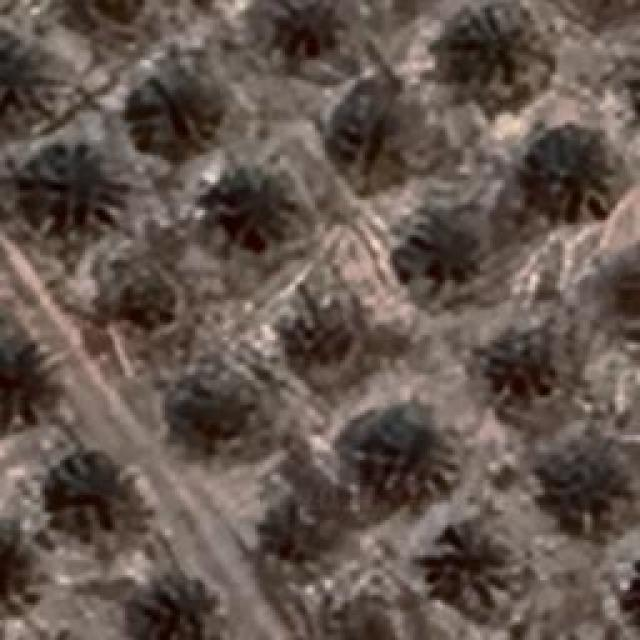PalmTree: (19, 74, 48, 568), (440, 2, 542, 100), (355, 410, 460, 500), (328, 98, 428, 186), (250, 482, 342, 576), (40, 462, 145, 542), (550, 454, 638, 546), (175, 366, 275, 446), (140, 72, 228, 162), (425, 525, 515, 610), (202, 168, 296, 248), (524, 134, 616, 214), (284, 294, 378, 368), (402, 210, 486, 292), (18, 145, 102, 225), (112, 575, 212, 640), (98, 245, 172, 330), (0, 328, 55, 430), (472, 321, 552, 389), (272, 0, 340, 60), (604, 240, 640, 330), (328, 602, 402, 640), (67, 0, 152, 30), (615, 550, 640, 638), (622, 548, 640, 638), (68, 0, 149, 20), (629, 548, 640, 637)
